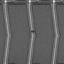dust: (30, 30, 35, 33)
